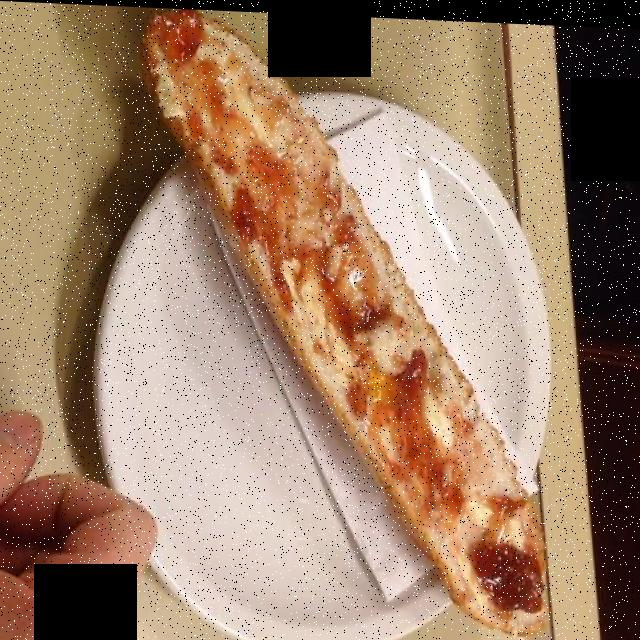bread-french-white-flour: (150, 8, 546, 615)
butter: (174, 38, 531, 568)
jam: (154, 23, 544, 604)
